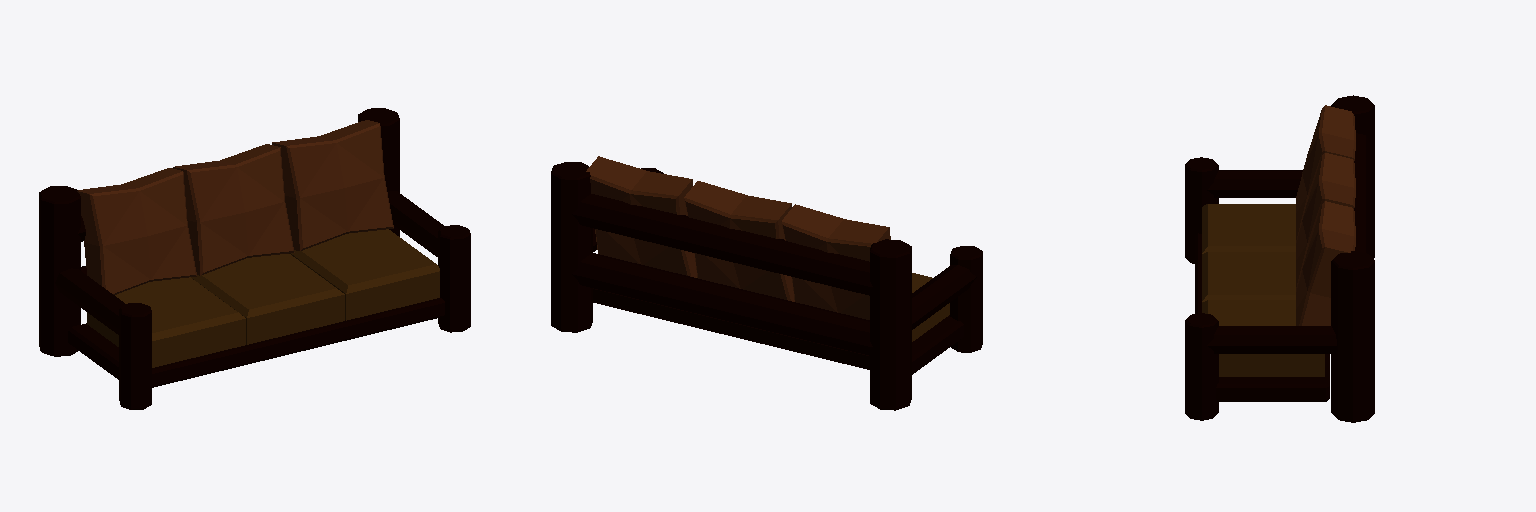
Rendered from ThreeSeaterCouch1.obj.
The picture shows the model from 3 angles: view 1: azimuth 30°, elevation 25°; view 2: azimuth 150°, elevation 25°; view 3: azimuth 270°, elevation 25°; orthographic projection.
Parts seen in each view (by area): view 1: ThreeSeaterCouch1_Cube, Pad1ThreeSeaterCouch1_Cube.008, Pad3ThreeSeaterCouch1_Cube.010, Pad2ThreeSeaterCouch1_Cube.009, Pad5ThreeSeaterCouch1_Cube.005, Pad6ThreeSeaterCouch1_Cube.006, Pad4ThreeSeaterCouch1_Cube.002; view 2: ThreeSeaterCouch1_Cube, Pad3ThreeSeaterCouch1_Cube.010, Pad2ThreeSeaterCouch1_Cube.009, Pad1ThreeSeaterCouch1_Cube.008, Pad4ThreeSeaterCouch1_Cube.002; view 3: ThreeSeaterCouch1_Cube, Pad6ThreeSeaterCouch1_Cube.006, Pad5ThreeSeaterCouch1_Cube.005, Pad4ThreeSeaterCouch1_Cube.002, Pad3ThreeSeaterCouch1_Cube.010, Pad2ThreeSeaterCouch1_Cube.009, Pad1ThreeSeaterCouch1_Cube.008.
Boxes of the visible parts, box(x1,y1,x2,y2) form: ThreeSeaterCouch1_Cube: box(39, 108, 470, 409); Pad1ThreeSeaterCouch1_Cube.008: box(77, 168, 196, 294); Pad3ThreeSeaterCouch1_Cube.010: box(272, 120, 393, 250); Pad2ThreeSeaterCouch1_Cube.009: box(173, 144, 294, 275); Pad5ThreeSeaterCouch1_Cube.005: box(191, 254, 344, 344); Pad6ThreeSeaterCouch1_Cube.006: box(289, 229, 439, 320); Pad4ThreeSeaterCouch1_Cube.002: box(87, 277, 245, 367); ThreeSeaterCouch1_Cube: box(551, 162, 982, 410); Pad3ThreeSeaterCouch1_Cube.010: box(586, 156, 696, 277); Pad2ThreeSeaterCouch1_Cube.009: box(684, 181, 794, 301); Pad1ThreeSeaterCouch1_Cube.008: box(781, 204, 890, 319); Pad4ThreeSeaterCouch1_Cube.002: box(912, 273, 949, 341); ThreeSeaterCouch1_Cube: box(1185, 95, 1374, 422); Pad6ThreeSeaterCouch1_Cube.006: box(1202, 300, 1324, 376); Pad5ThreeSeaterCouch1_Cube.005: box(1202, 252, 1295, 302); Pad4ThreeSeaterCouch1_Cube.002: box(1202, 204, 1295, 253); Pad3ThreeSeaterCouch1_Cube.010: box(1296, 201, 1355, 325); Pad2ThreeSeaterCouch1_Cube.009: box(1296, 153, 1355, 291); Pad1ThreeSeaterCouch1_Cube.008: box(1296, 105, 1355, 242).
Size of the model in its own units: 2.56 by 1.1 by 1.18.